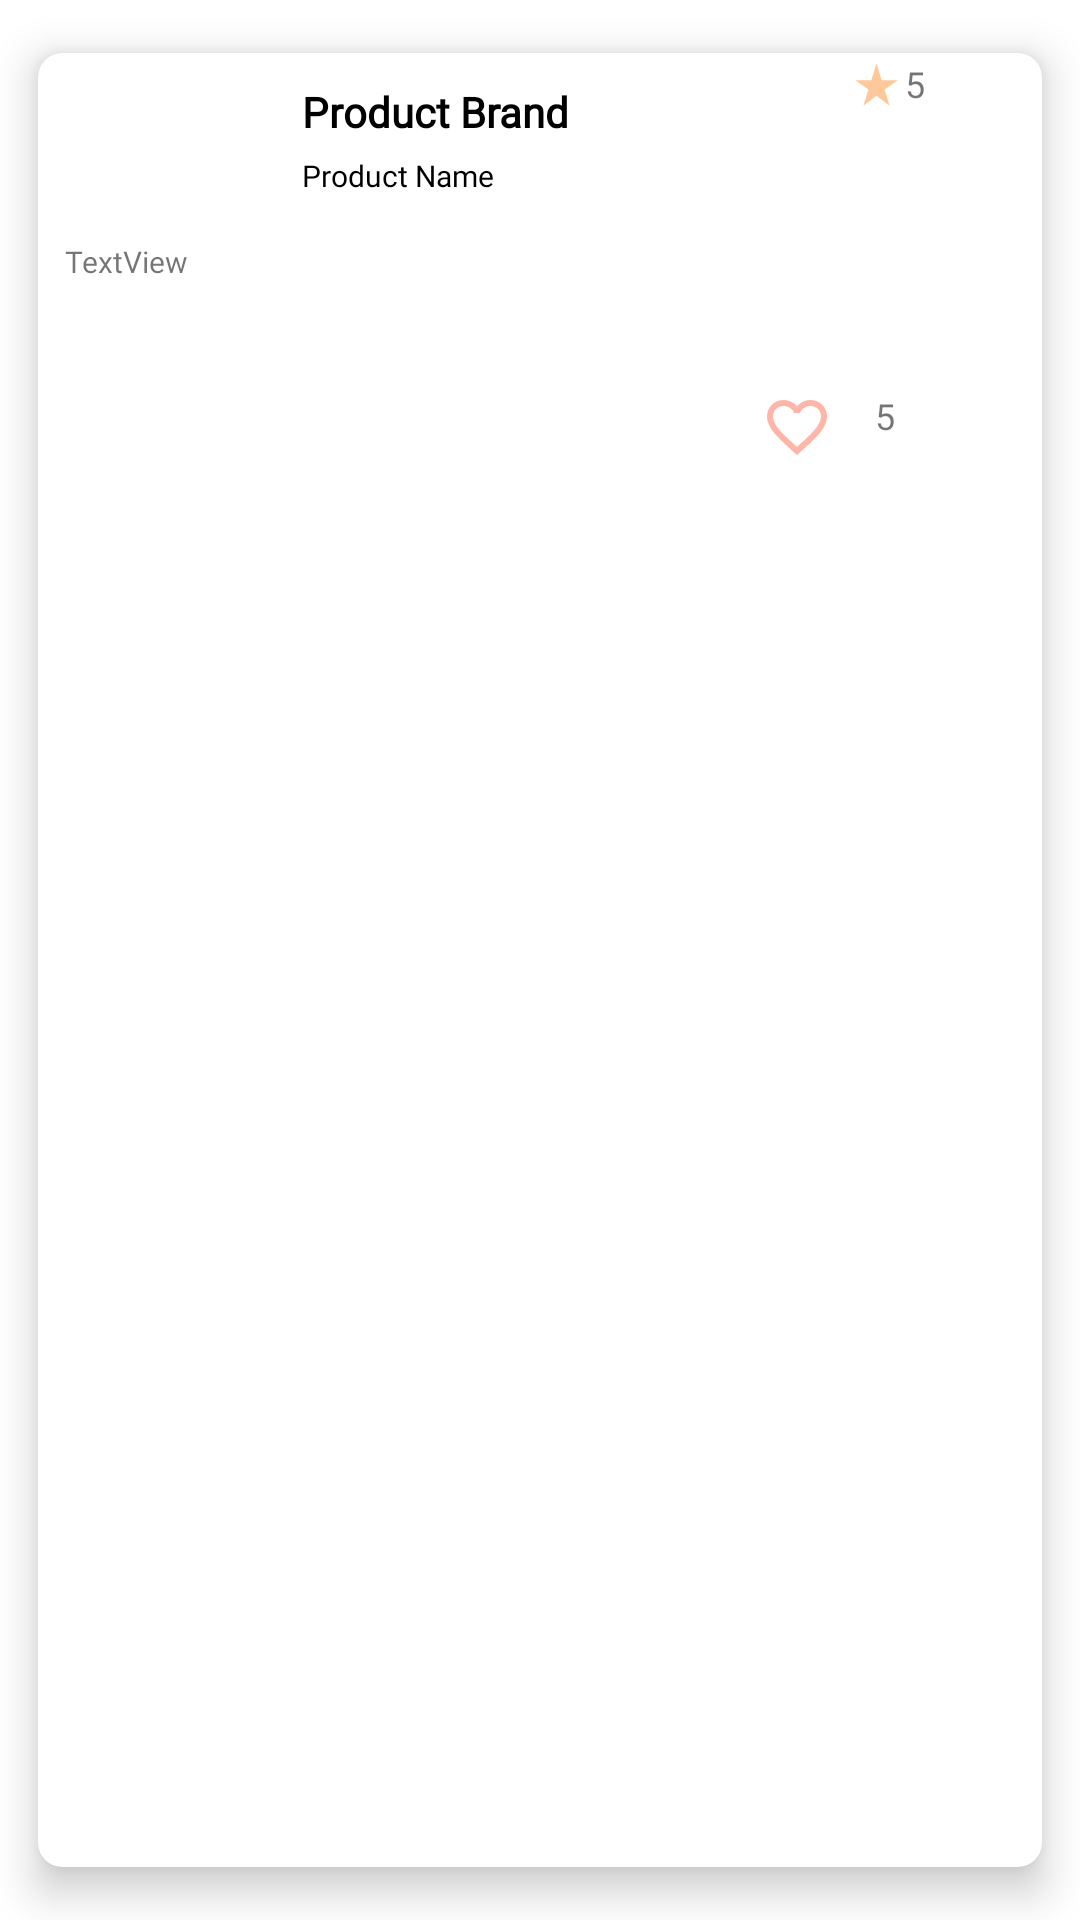

Where to tap for icons on this 1080px x 1920px app screen, as (x=x, y=y):
unfavorite: (x=797, y=427)
